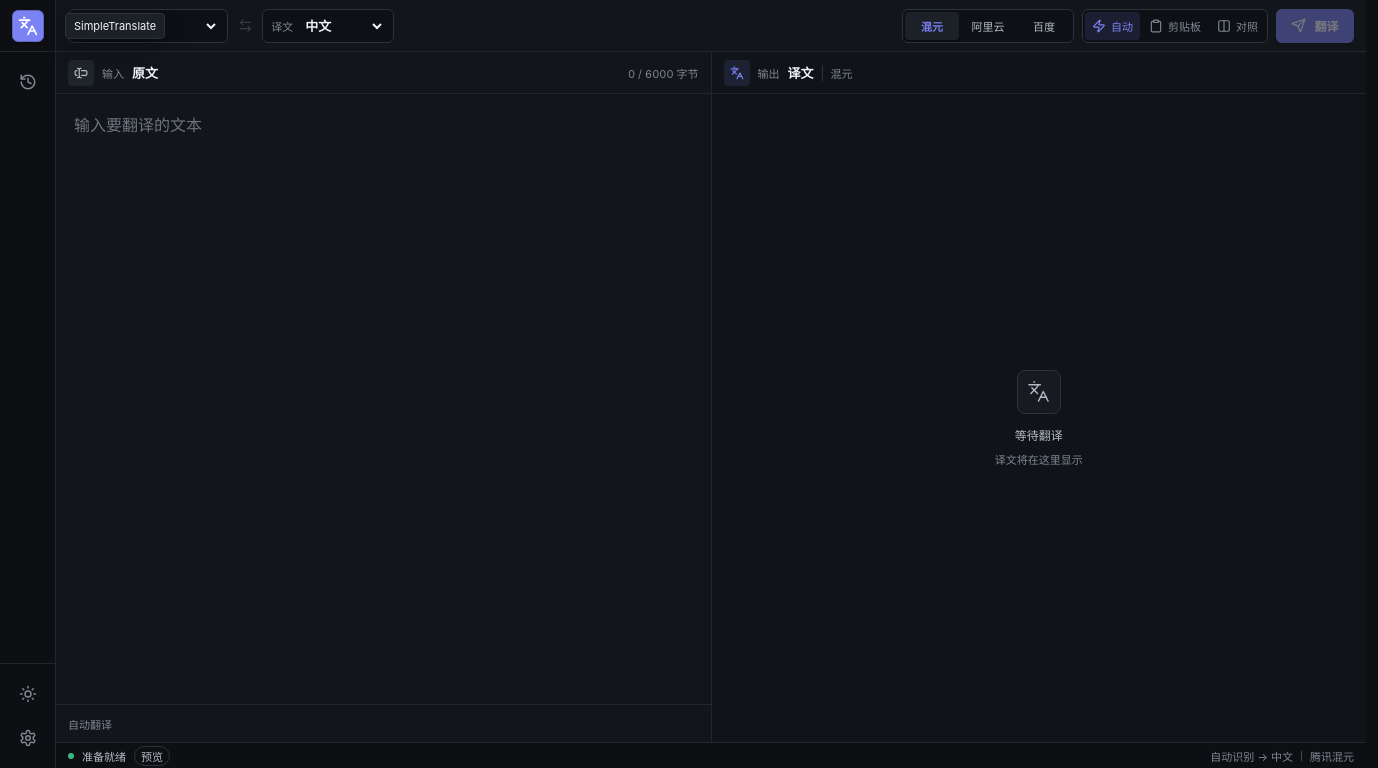
Test: standalone app › does not retranslate after the backend adjusts the target language
Type "你好" into the text box named "原文" at (383, 399), box [56,94,710,704]
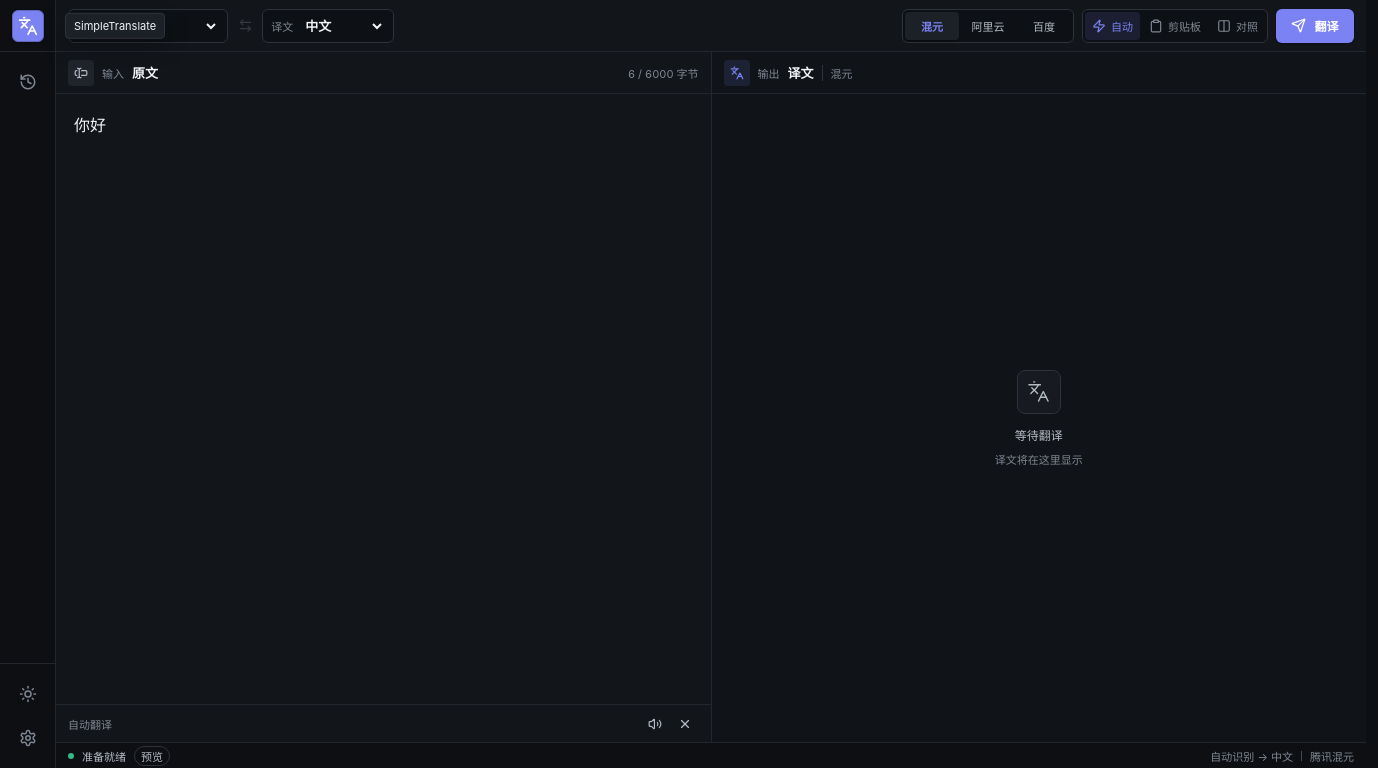
Click the button "翻译" at (1315, 26), box [1276,8,1354,42]
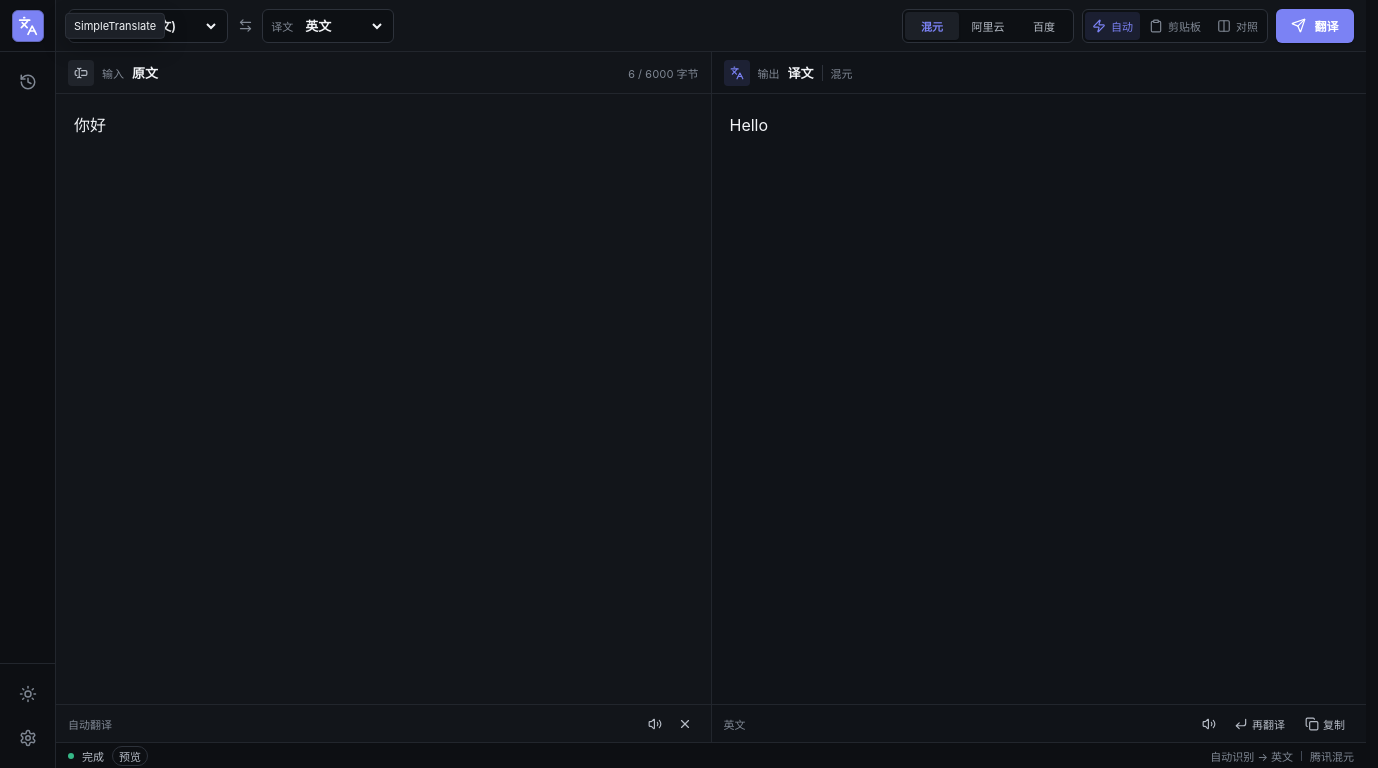
Expected: the dropdown named "目标语言" shows "英文", [301,16,385,34]
